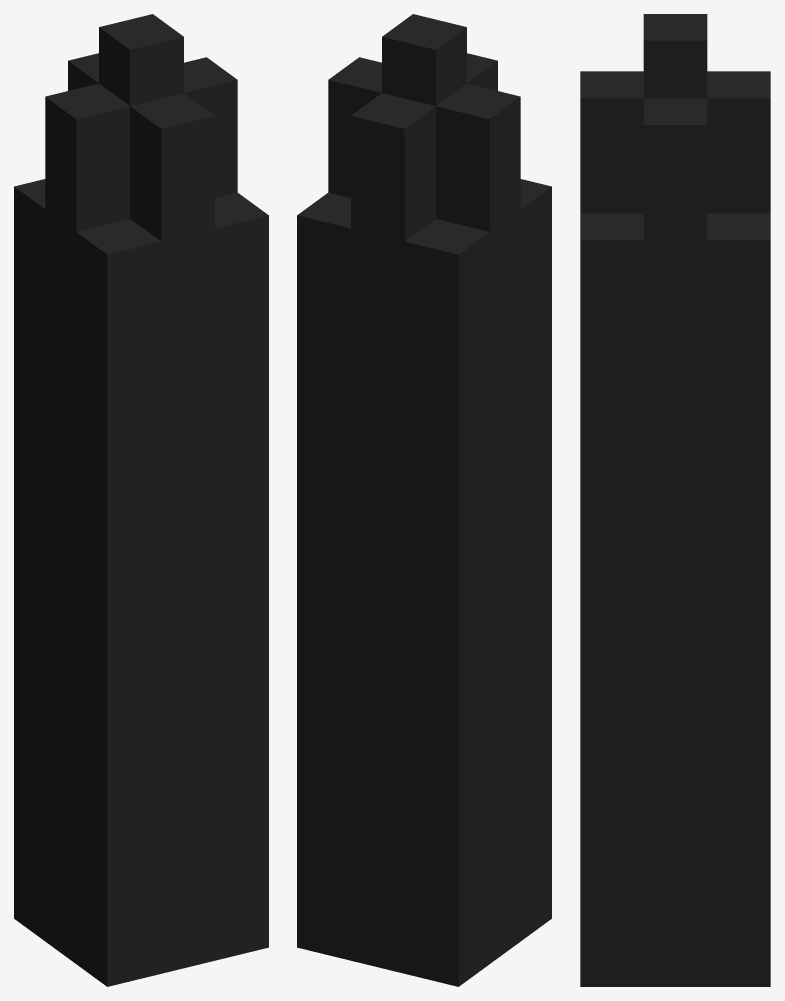
The model's file is monster-2.obj.
The picture shows the model from 3 angles, left to right: view 1: azimuth 30°, elevation 25°; view 2: azimuth 150°, elevation 25°; view 3: azimuth 270°, elevation 25°; orthographic projection. The views are drawn at different scales.
Size of the model in its own units: 0.3 by 1.6 by 0.3.
Materials: 1 (1 with a texture image).
